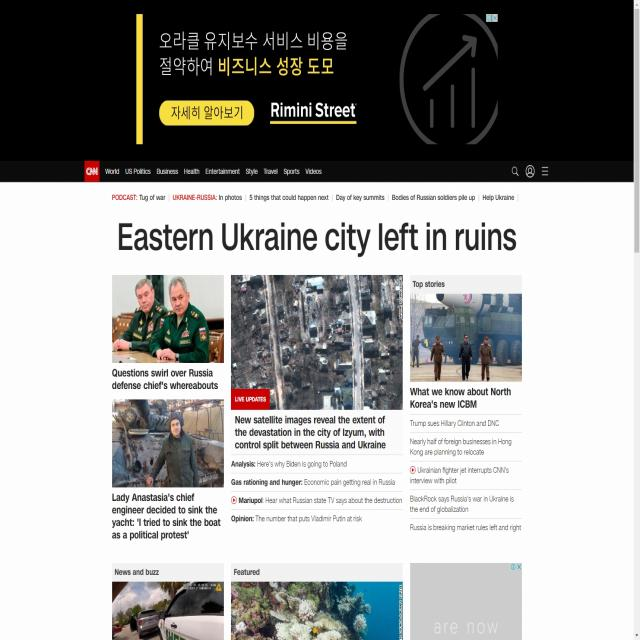menu-bar: (102, 161, 326, 180), (508, 161, 552, 181)
